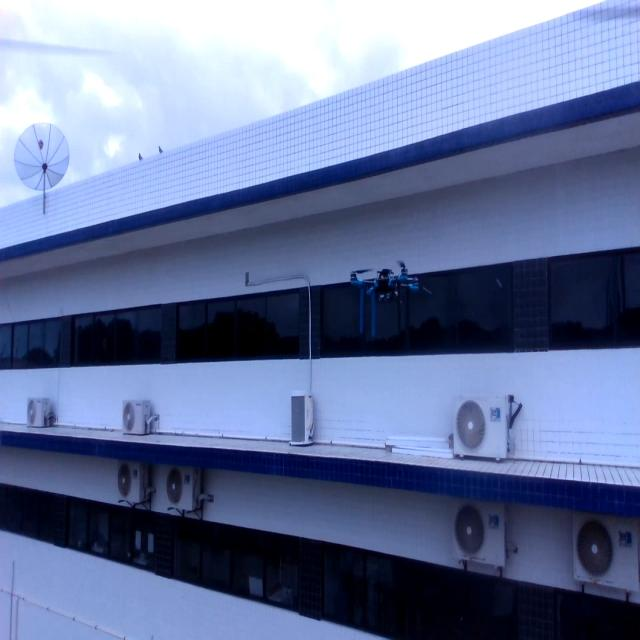-uav-: (331, 250, 438, 350)
